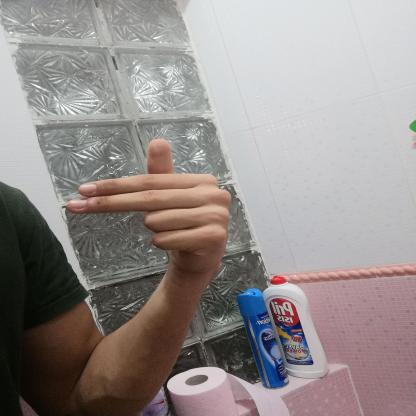GHAYN: (50, 134, 244, 279)
